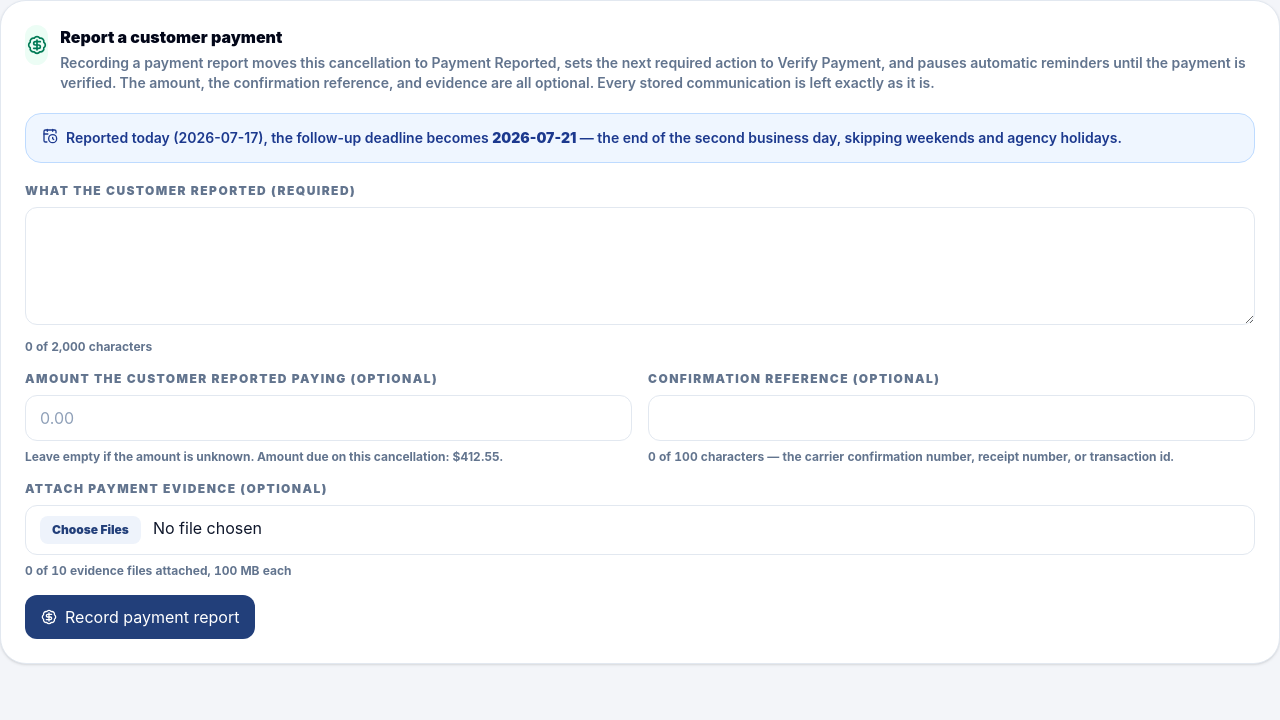
Test: CancellationPaymentReport › rejects an amount outside 0.01 to 999,999,999.99 naming the field
This screenshot has width=1280, height=720.
Type "Customer paid." into the text box labelled "What the customer reported (required)".
click(640, 266); type("Customer paid.")  # box [25, 207, 1255, 325]
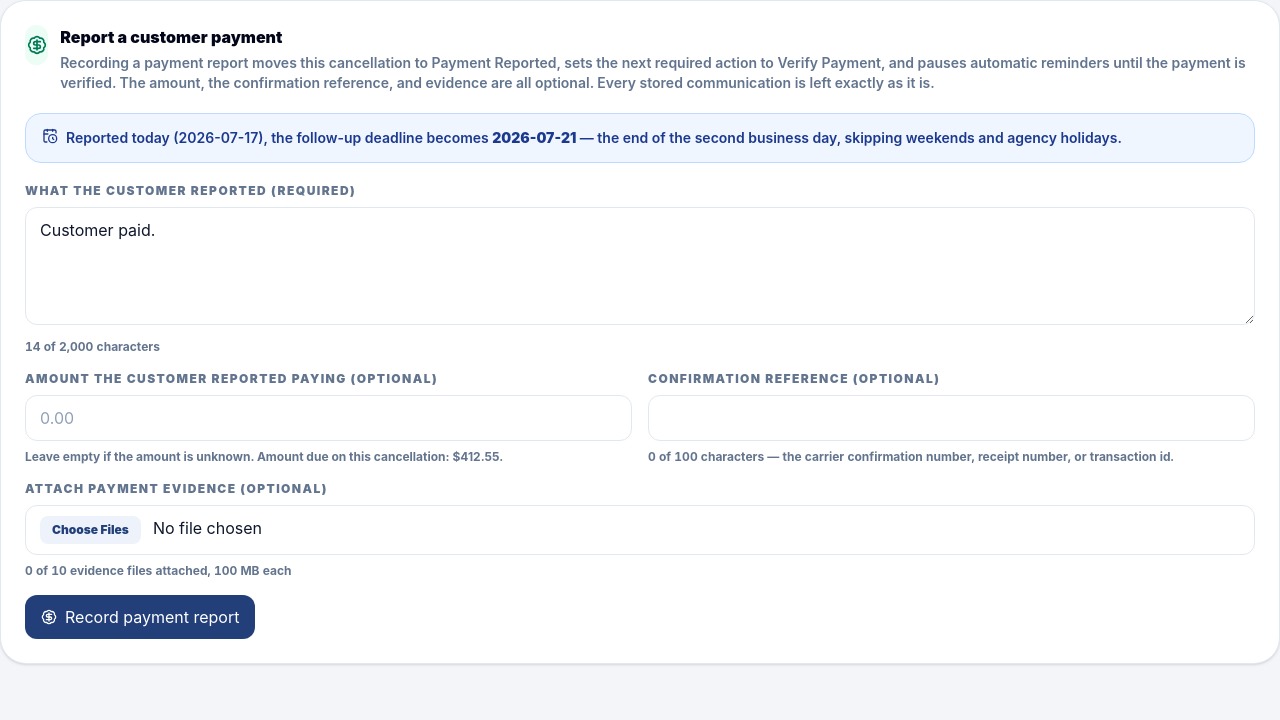
Type "1000000000" into the field labelled "Amount the customer reported paying (optional)".
click(328, 418); type("1000000000")  # box [25, 395, 632, 441]
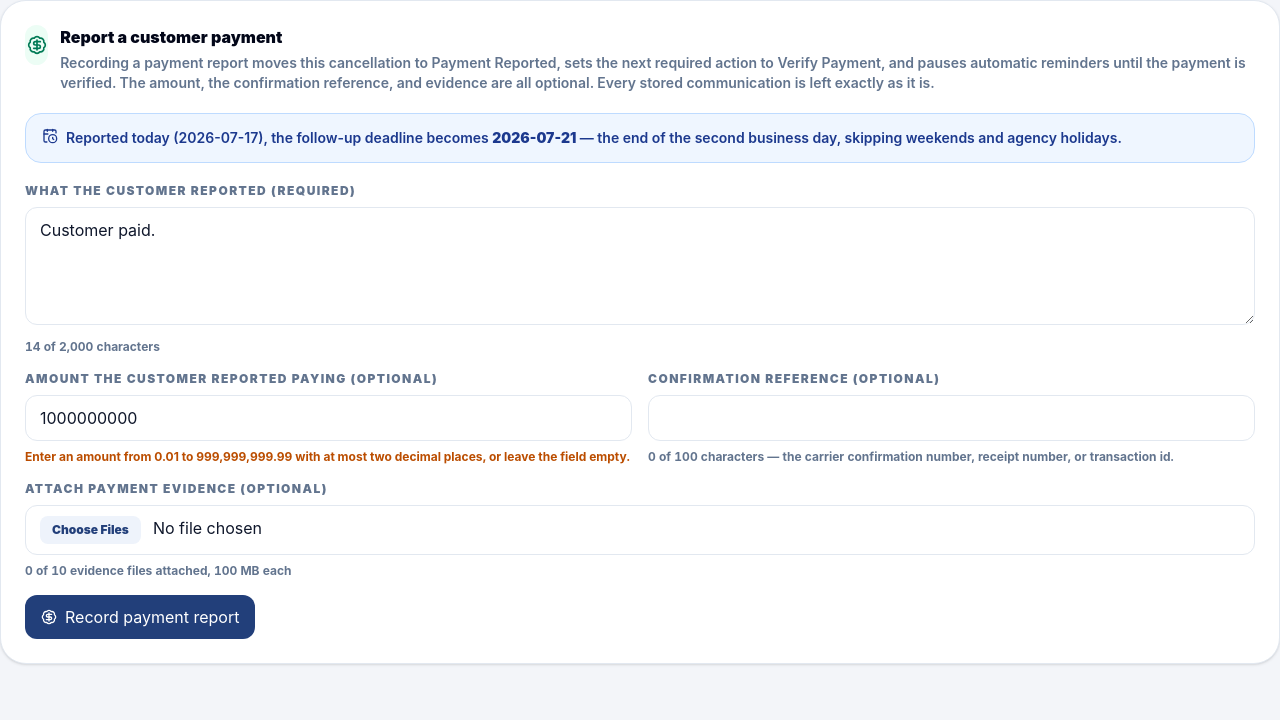
Click the button "Record payment report".
click(140, 617)  # box [25, 595, 255, 639]
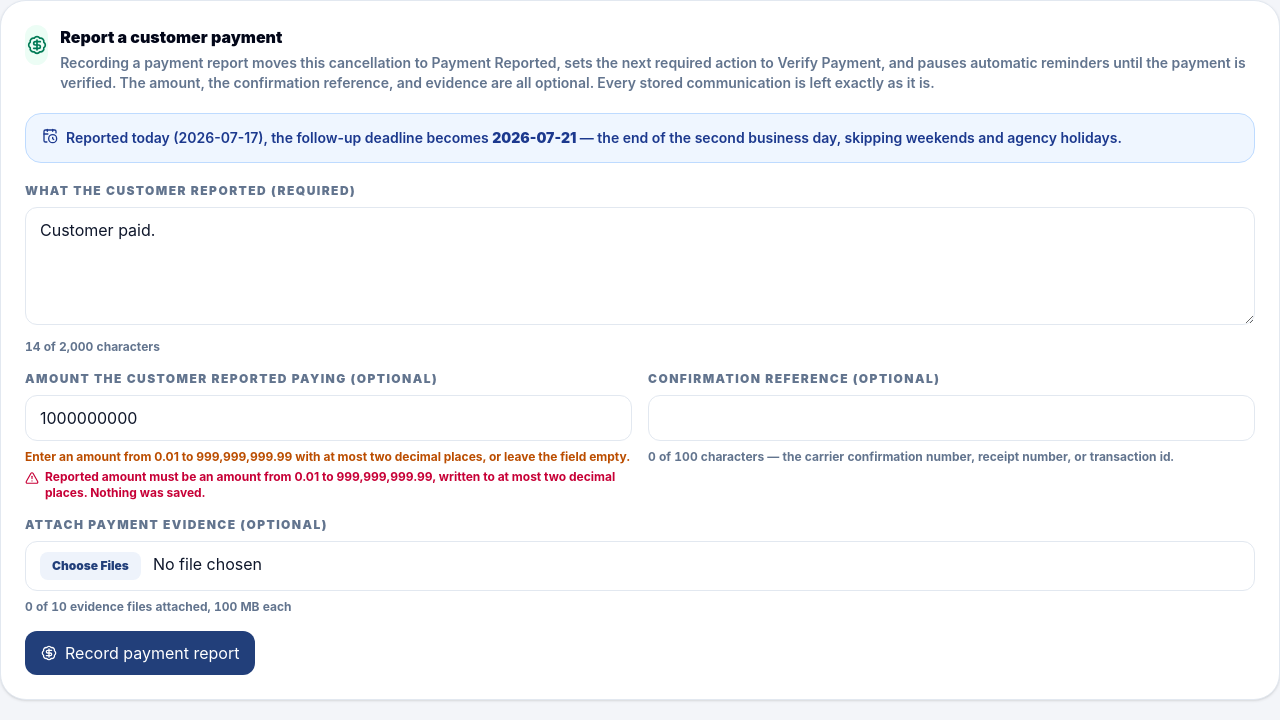
expect the message shows "Reported amount": met, box [45, 469, 615, 500]
expect the message shows "0.01": met, box [45, 469, 615, 500]
expect the message shows "999,999,999.99": met, box [45, 469, 615, 500]
